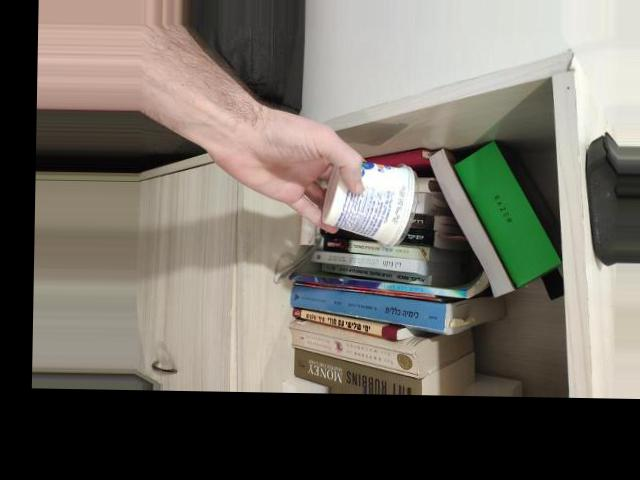cotage: (300, 150, 423, 250)
